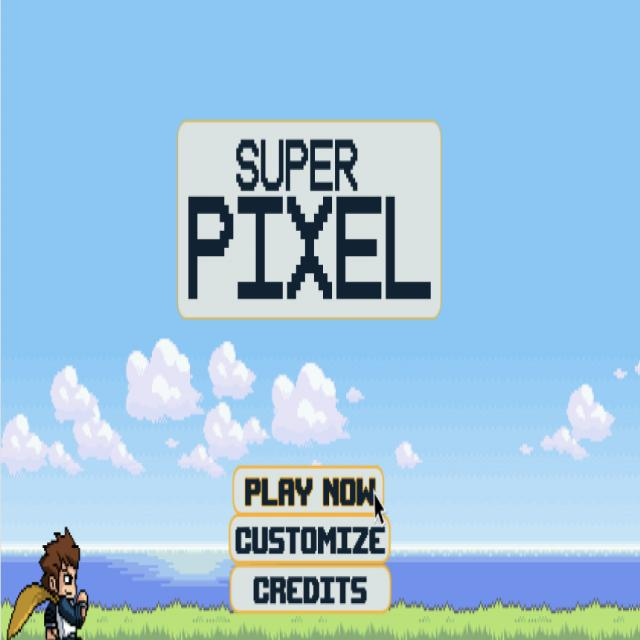Start-button: (235, 456, 386, 525)
